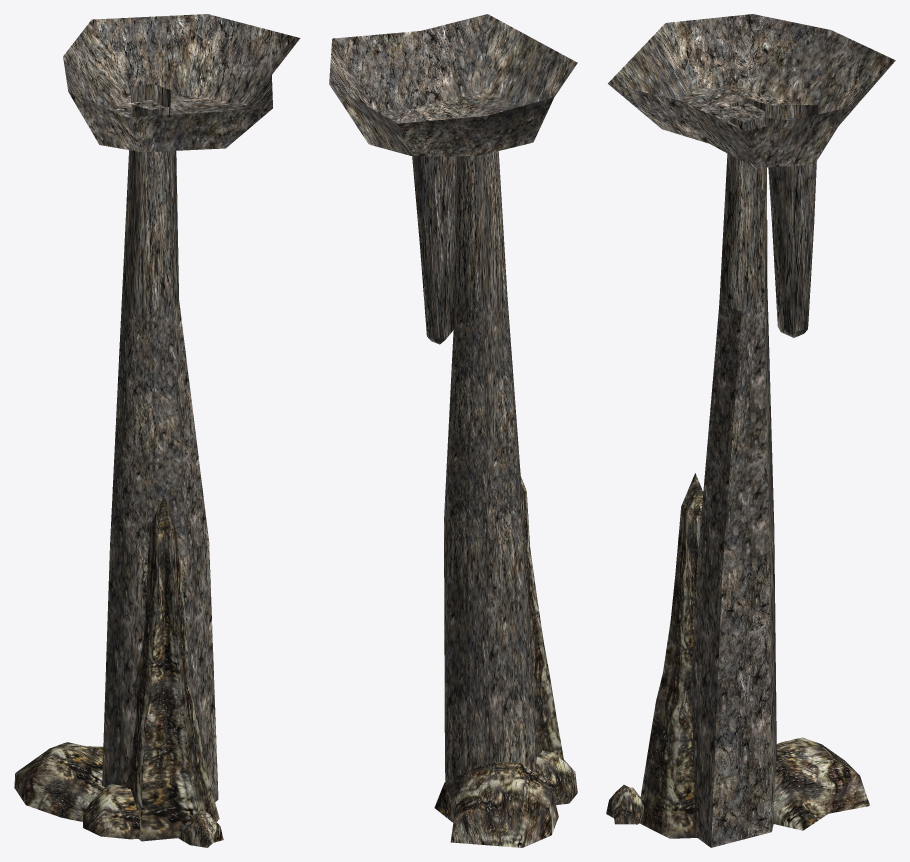
The model's file is pir_m_prp_cav_column_large.fbx.
3 renders of one model, left to right at view 1: azimuth 30°, elevation 25°; view 2: azimuth 150°, elevation 25°; view 3: azimuth 270°, elevation 25°, orthographic. The views are drawn at different scales.
Parts seen in each view (by area): view 1: pCylinder120, pCube136, pCylinder122, pCube137, pCube139, pCube138, pCylinder121; view 2: pCylinder120, pCube136, pCube137, pCylinder121, pCylinder122, pCube139; view 3: pCylinder120, pCube136, pCylinder122, pCylinder121, pCube137, pCube138.
Boxes of the visible parts, left/top/right/bottom form: pCylinder120: left=102, top=150, right=218, bottom=801; pCube136: left=63, top=14, right=300, bottom=152; pCylinder122: left=125, top=496, right=219, bottom=841; pCube137: left=14, top=742, right=104, bottom=821; pCube139: left=83, top=784, right=139, bottom=839; pCube138: left=179, top=809, right=223, bottom=847; pCylinder121: left=130, top=83, right=171, bottom=117; pCylinder120: left=444, top=151, right=536, bottom=781; pCube136: left=329, top=14, right=577, bottom=156; pCube137: left=434, top=762, right=558, bottom=847; pCylinder121: left=412, top=156, right=460, bottom=344; pCylinder122: left=520, top=476, right=563, bottom=759; pCube139: left=535, top=750, right=577, bottom=804; pCylinder120: left=690, top=98, right=776, bottom=847; pCube136: left=608, top=14, right=895, bottom=168; pCylinder122: left=640, top=473, right=703, bottom=838; pCylinder121: left=765, top=104, right=818, bottom=337; pCube137: left=773, top=737, right=869, bottom=830; pCube138: left=606, top=785, right=643, bottom=824.
Bounding box in the file's own units: 3433 × 9598 × 3282.
2 materials, 2 textured.
